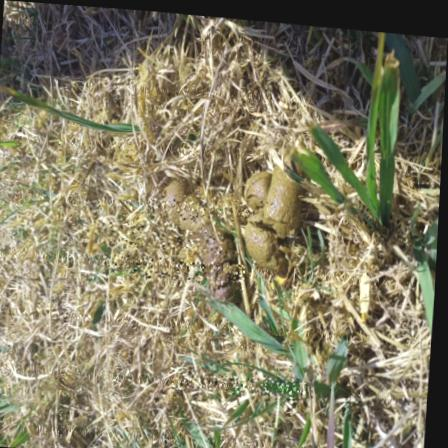dog-poop: (151, 183, 241, 304), (239, 150, 307, 272)
